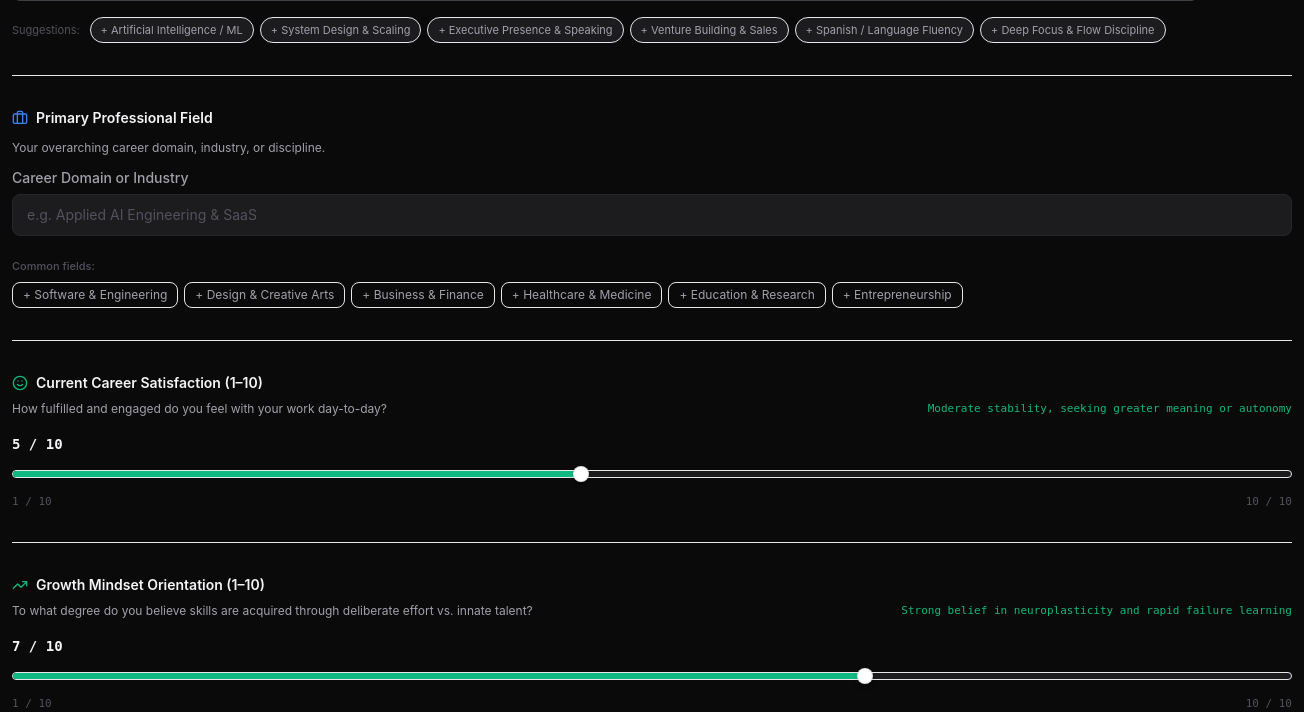
Test: SkillsStep Component › updates career satisfaction rating and displays dynamic note
(page scrolled)
Set the slider named "current career satisfaction rating from 1 to 10" to "9": (652, 468) [12, 426, 1292, 510]
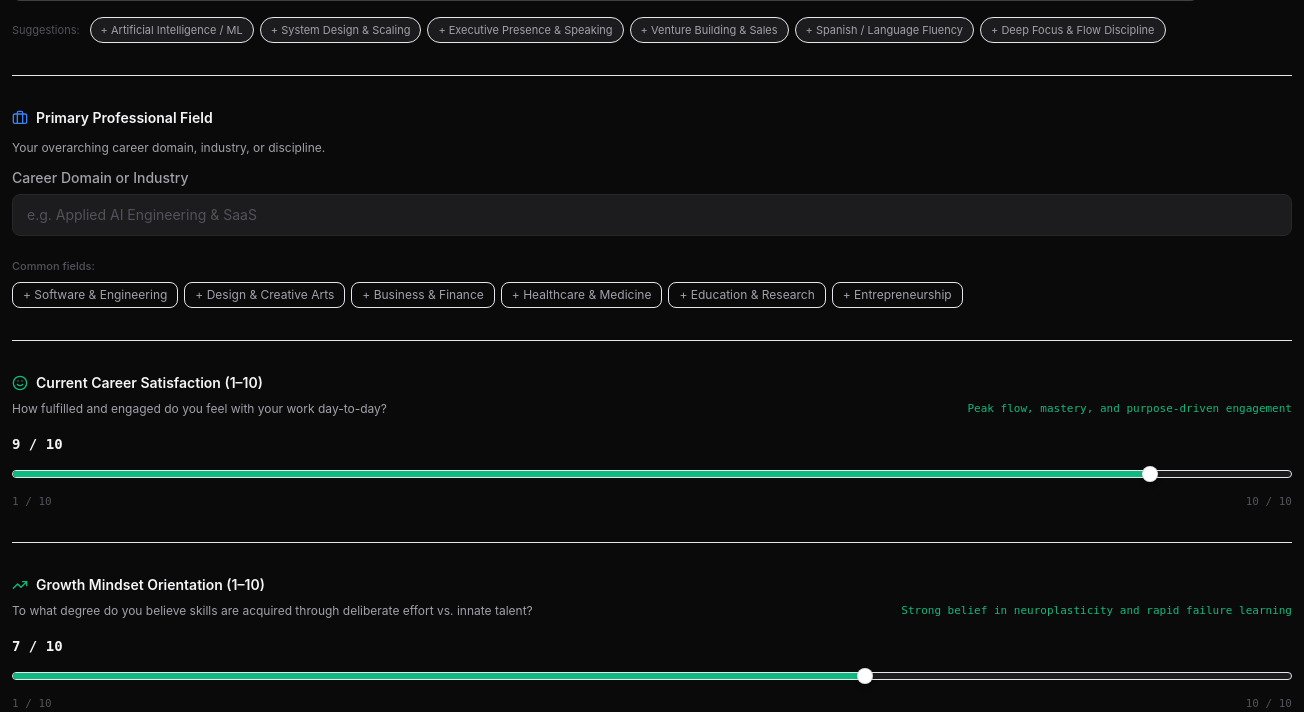
Expected: the text "Peak flow, mastery, and purpose-driven engagement" is shown, [968, 401, 1292, 418]
